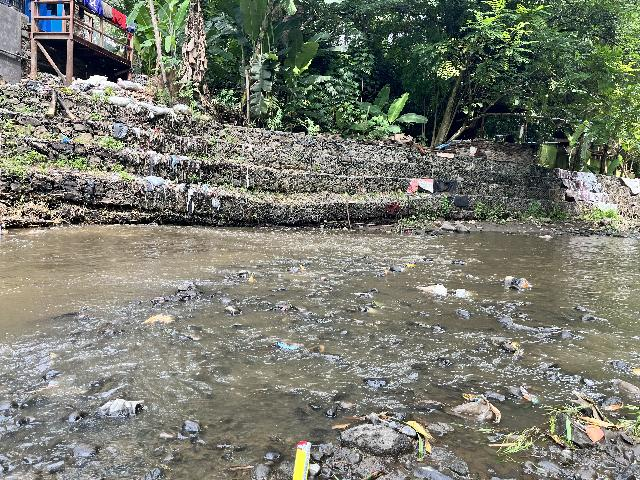Sampah Anorganik: (443, 385, 504, 427), (288, 435, 316, 480), (267, 334, 316, 357), (135, 309, 182, 328), (510, 380, 543, 406), (498, 273, 536, 295)
